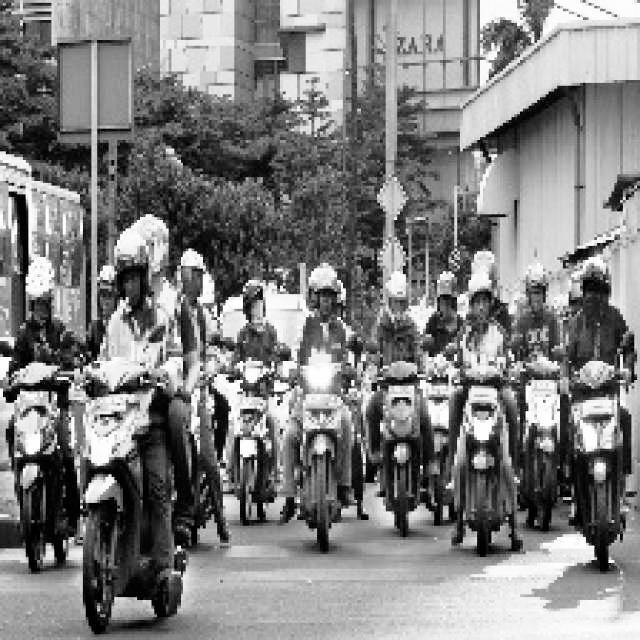Bike: (81, 336, 195, 640), (562, 332, 636, 570), (7, 341, 79, 566), (438, 358, 512, 556), (223, 328, 290, 522), (297, 332, 354, 540), (366, 345, 428, 526), (525, 354, 569, 522)
